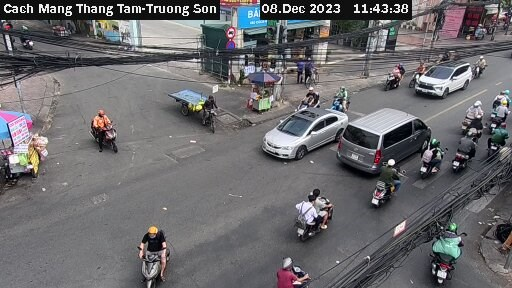car: (340, 109, 428, 171), (265, 110, 349, 160), (415, 54, 472, 97)
motorbike: (123, 223, 180, 283), (289, 185, 347, 237), (425, 216, 472, 278), (79, 110, 132, 160), (265, 250, 320, 285), (363, 162, 405, 207), (447, 131, 481, 173), (415, 138, 445, 177), (325, 84, 358, 117), (480, 122, 510, 154), (462, 95, 485, 133), (292, 86, 328, 109), (381, 64, 407, 89), (491, 87, 512, 110), (488, 104, 509, 126)
